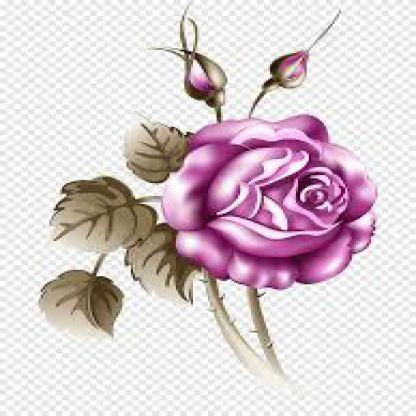Rose-Mawar: (160, 96, 389, 301)
